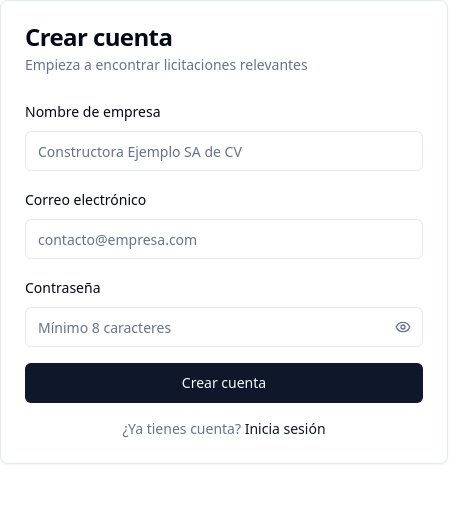
Test: SignupForm › muestra error con email inválido
The width and height of the screenshot is (465, 509).
Type "no-es-email" into the field labelled "Correo electrónico" at (224, 239), box [25,219,423,259]
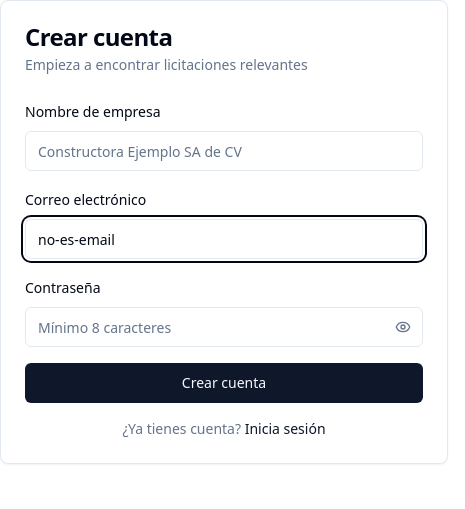
Leave the field labelled "Correo electrónico", box [25,219,423,259]
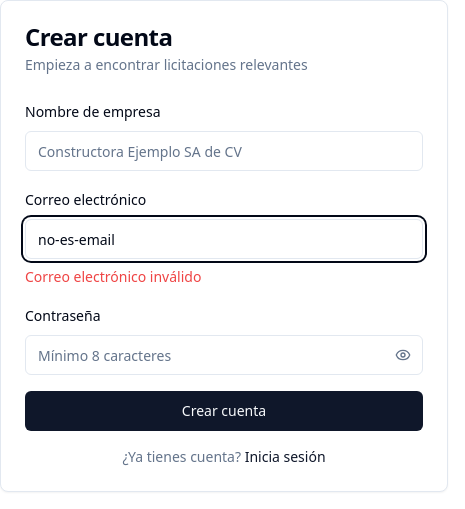
Result: the text "Correo electrónico inválido" is shown at [25,267,201,286]
